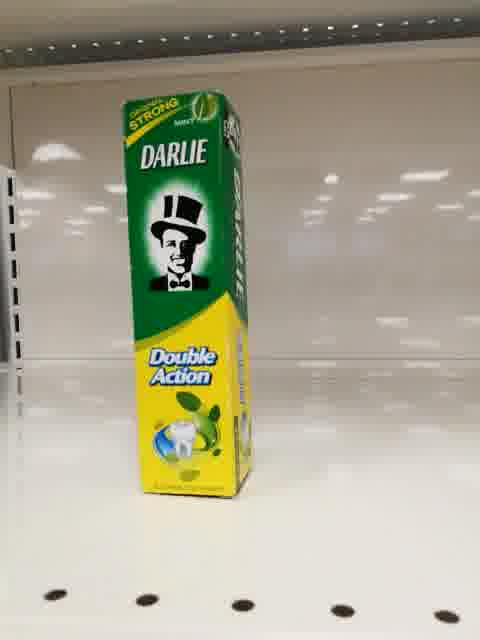toothpaste: (122, 89, 253, 497)
